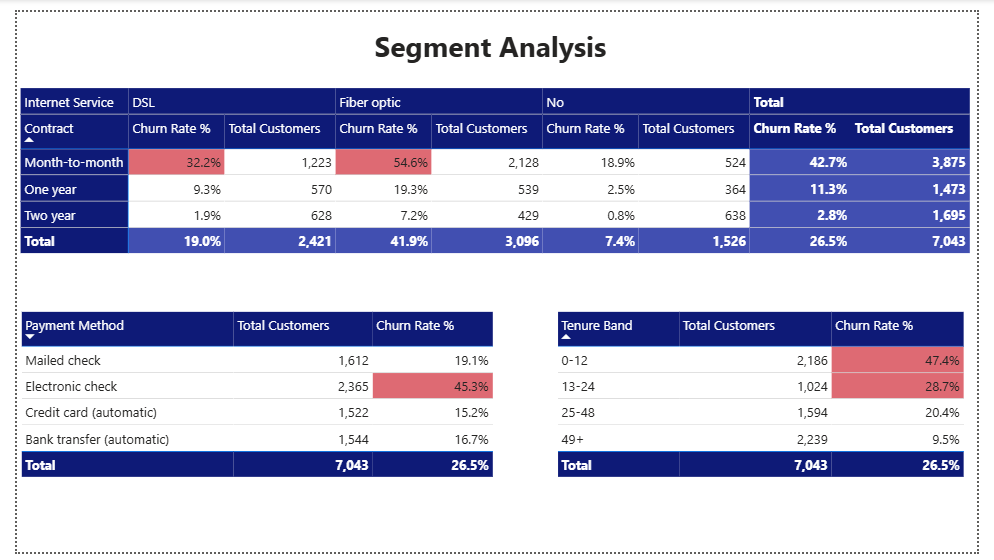

Layout of this report page (visuals, bound fields, positions):
{"tool":"powerbi","page":{"name":"Segment Analysis","canvas":[1280,720],"ordinal":1},"visuals":[{"type":"pivotTable","fields":{"Rows":["Telco-Customer-Churn.contracts"],"Columns":["Telco-Customer-Churn.internet_service"],"Values":["Telco-Customer-Churn.Churn Rate %","Telco-Customer-Churn.Total Customers"]},"box":[0,97.3,1280,230],"z":0},{"type":"tableEx","fields":{"Values":["Telco-Customer-Churn.payment_method","Telco-Customer-Churn.Total Customers","Telco-Customer-Churn.Churn Rate %"]},"box":[0,395.7,640,266.7],"z":1000},{"type":"tableEx","fields":{"Values":["Telco-Customer-Churn.tenure_band","Telco-Customer-Churn.Total Customers","Telco-Customer-Churn.Churn Rate %"]},"box":[715,395.7,553.3,266.7],"z":2000},{"type":"textbox","box":[471.7,15,335,61.7],"z":3000}]}

Visuals, with their boxes in screenshot pixels (x1, y1, x2, y2), scaled from the page's 1280x720 canvas onto the 994x560 screenshot:
pivotTable - Telco-Customer-Churn.contracts x Telco-Customer-Churn.internet_service: crop(0, 76, 993, 255)
tableEx - Telco-Customer-Churn.payment_method x Telco-Customer-Churn.Total Customers: crop(0, 308, 497, 515)
tableEx - Telco-Customer-Churn.tenure_band x Telco-Customer-Churn.Total Customers: crop(555, 308, 985, 515)
textbox: crop(366, 12, 626, 60)
